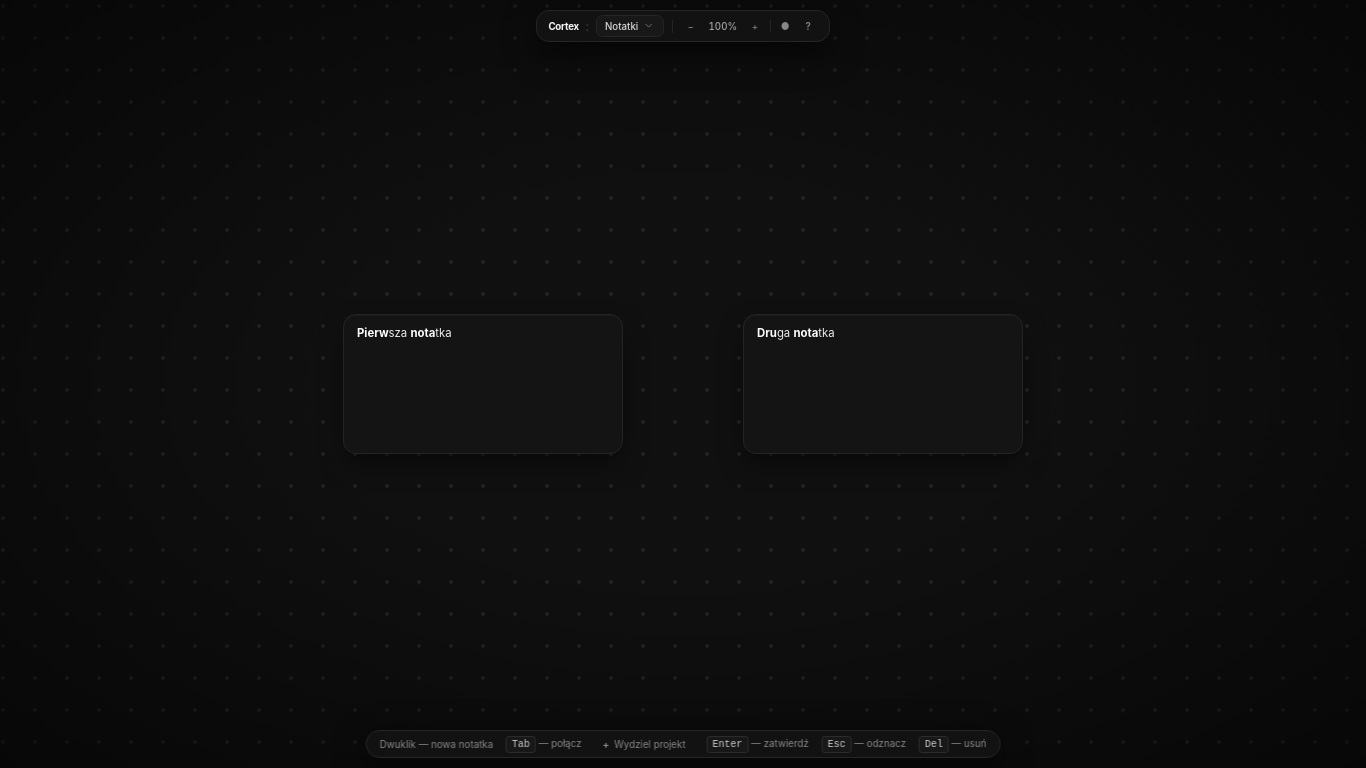
Test: NotesCanvas - Selection, Tab Linking, and Edge Management › creates edge when second note is clicked in linking mode and exits linking mode
Press the mouse on the element with test id "note-card-node-1" at (483, 384), box left=343, top=314, right=623, bottom=454
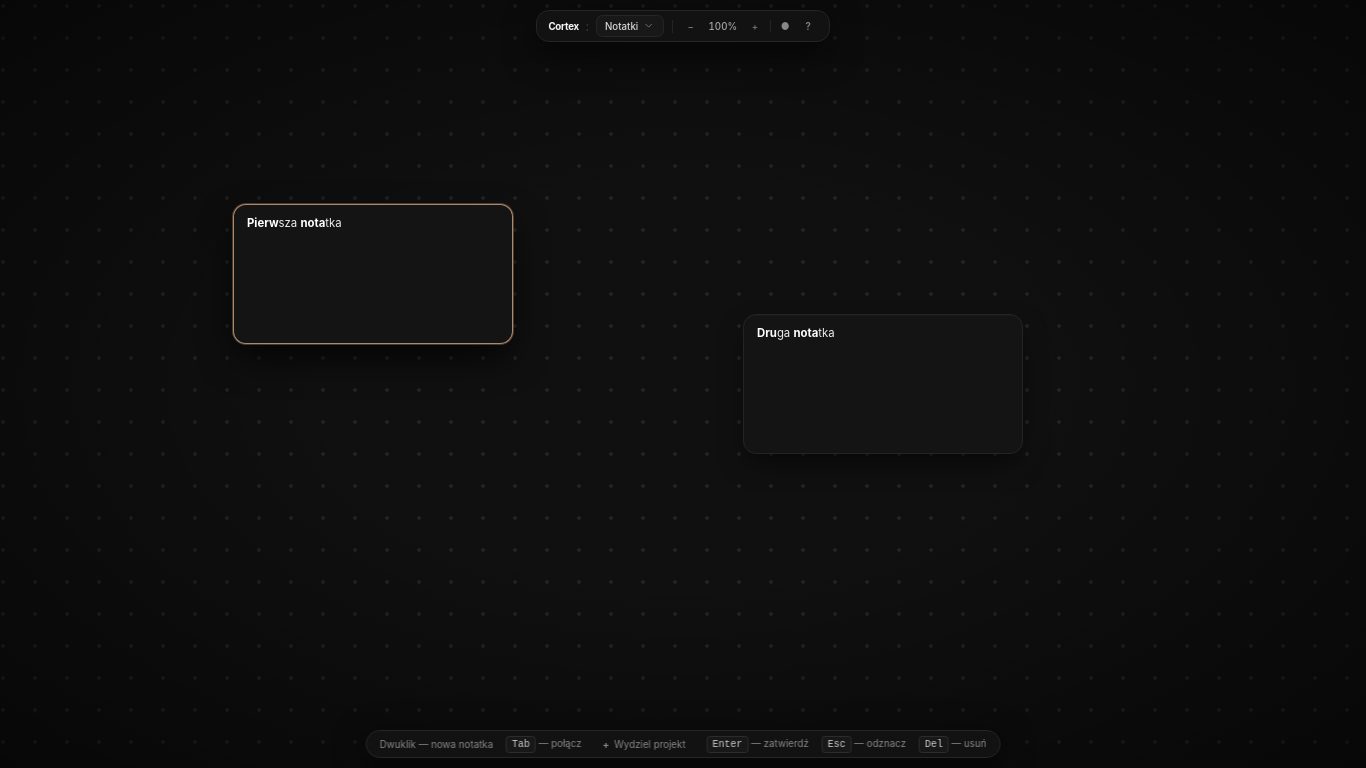
Press Tab
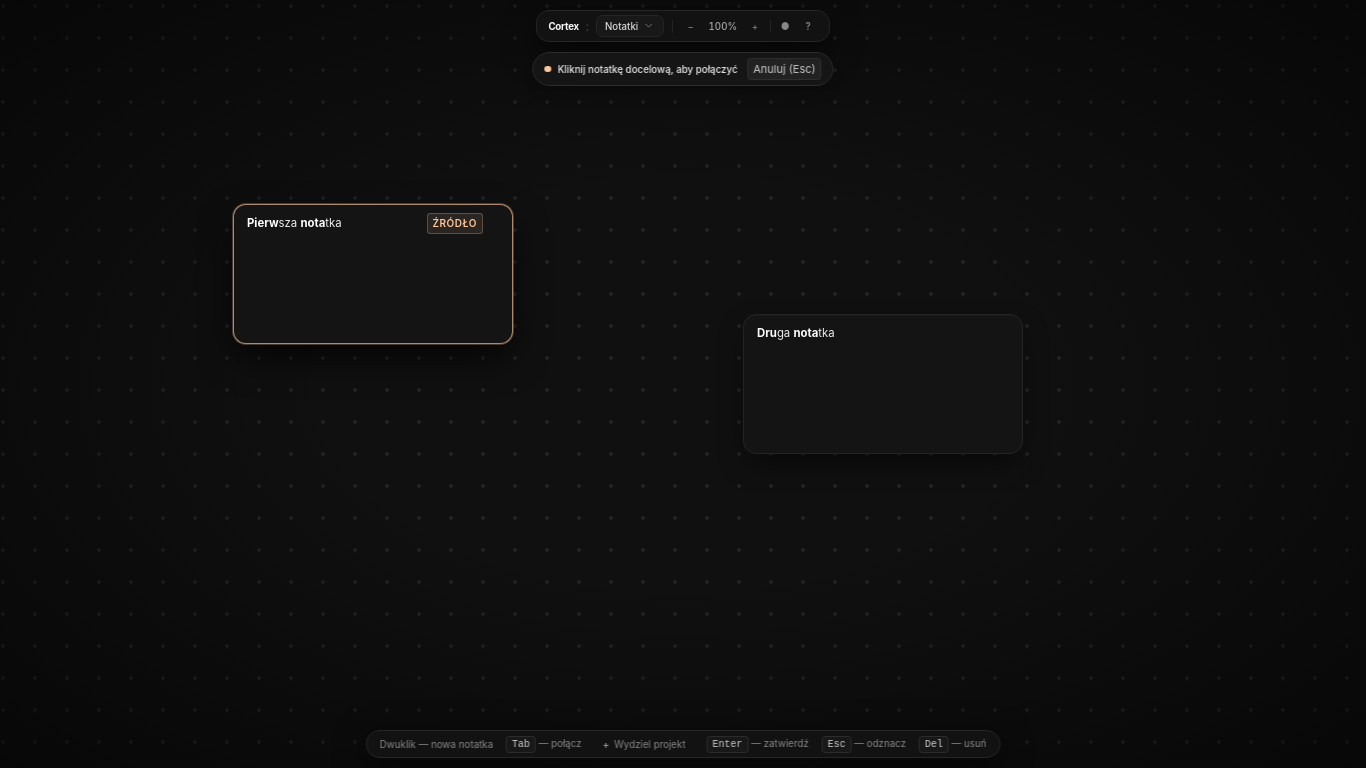
Result: the element with test id "note-card-node-1" has attribute data-linking-source="true" at left=233, top=204, right=513, bottom=344
Click the element with test id "note-card-node-2" at (883, 384), box left=743, top=314, right=1023, bottom=454
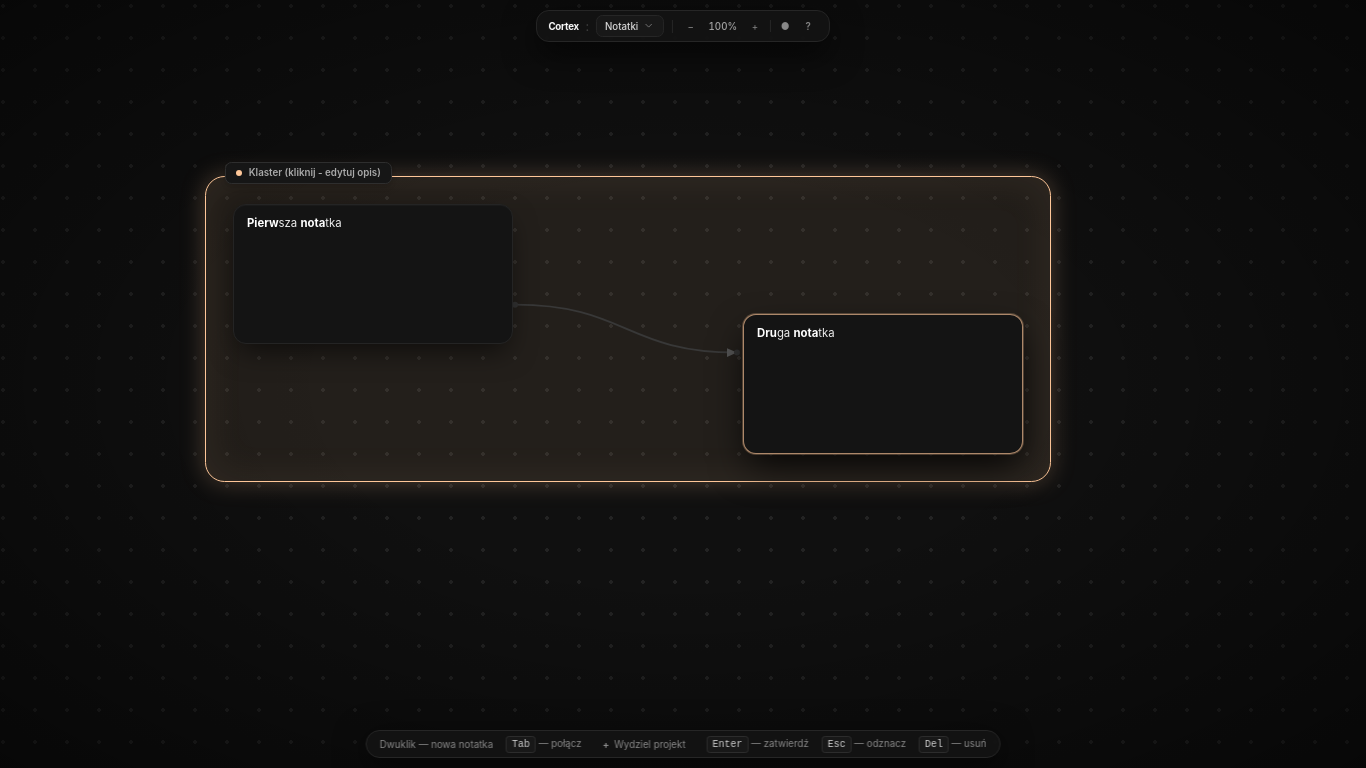
Result: the text "Kliknij notatkę docelową" is gone
